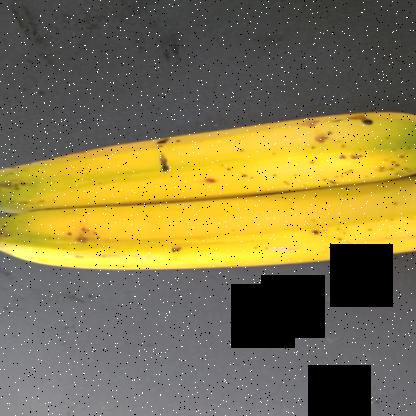freshripe: (14, 172, 415, 276)
ripe: (19, 89, 415, 202)
